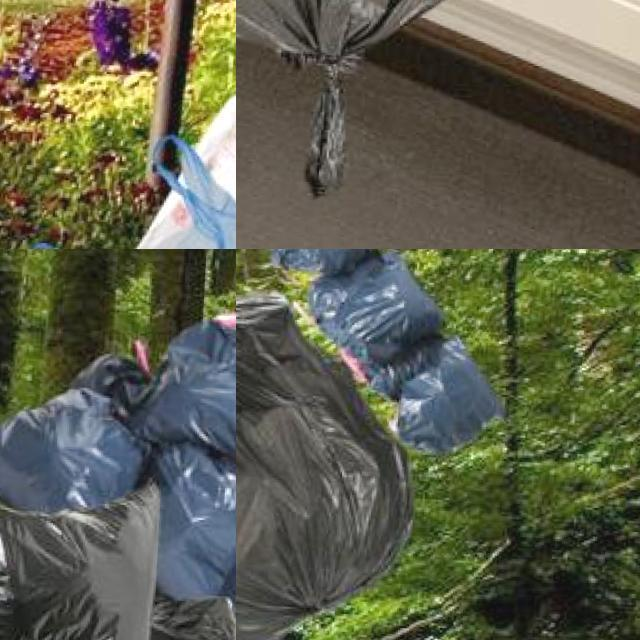waste: (236, 288, 417, 640), (236, 0, 488, 112), (0, 479, 166, 640), (139, 7, 236, 249), (20, 144, 236, 249), (0, 379, 137, 513), (131, 453, 236, 610), (306, 254, 439, 360), (137, 316, 236, 458), (392, 352, 502, 454), (275, 249, 380, 272)
